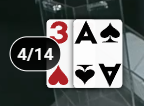3: (46, 19, 72, 46)
a: (73, 19, 99, 46)
